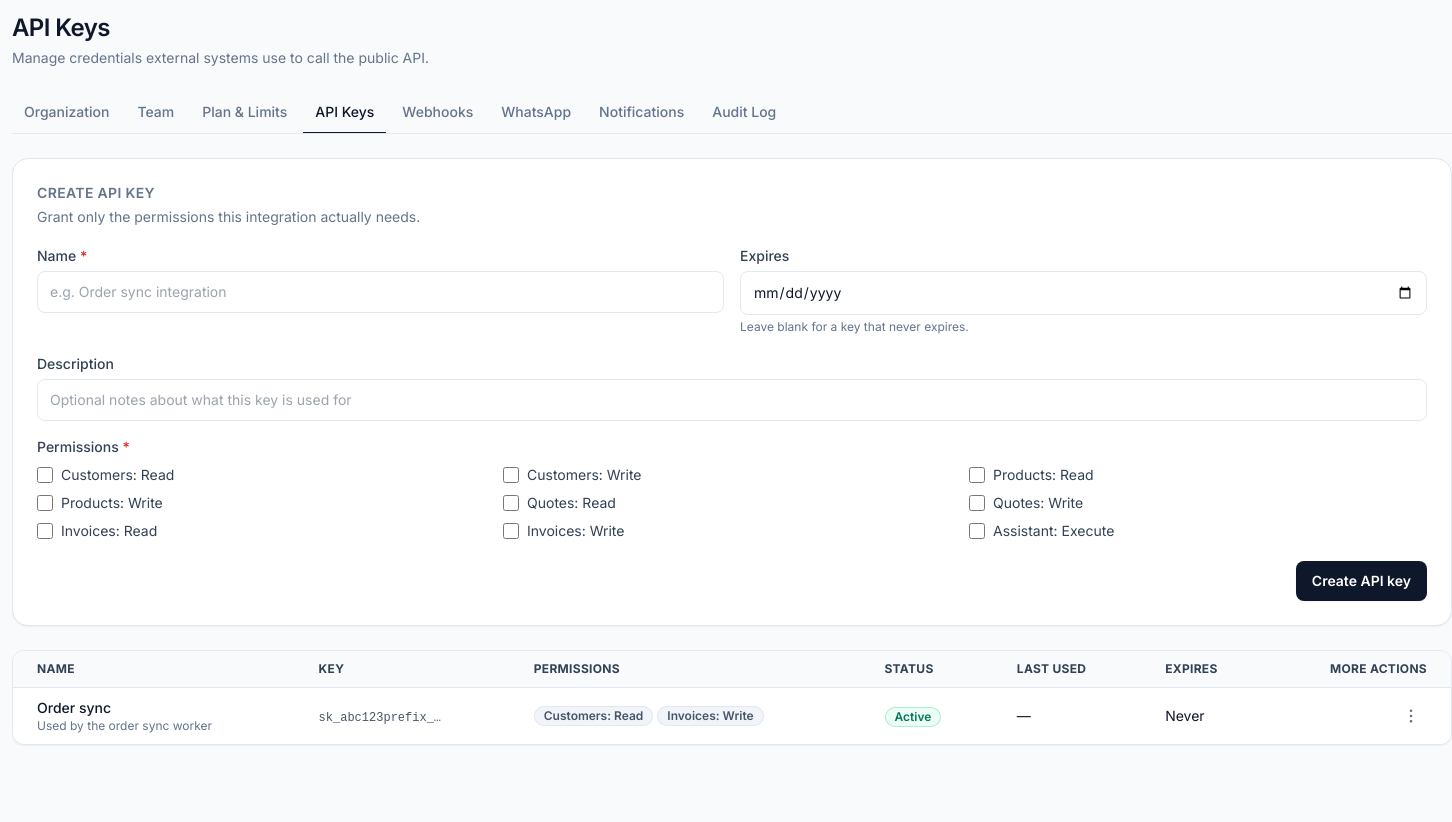
Test case: ApiKeysPage › revokes a key after confirmation
Expected: the text "Order sync" is shown, [37, 699, 111, 716]
Step 1. Click the button named "More actions" → [1411, 716], box [1395, 700, 1427, 732]
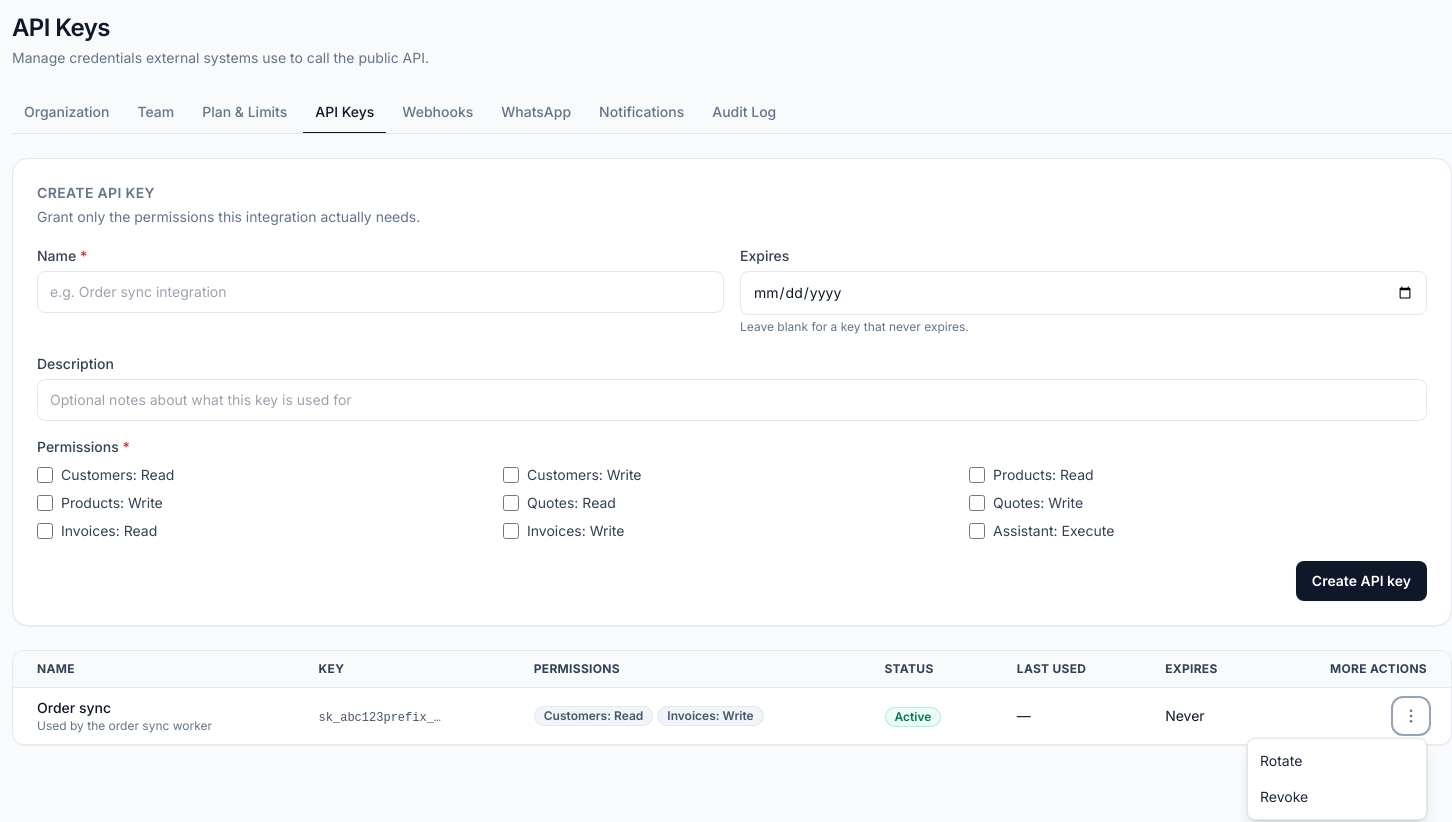
Step 2. Click the menu item "Revoke" → [1337, 797], box [1248, 779, 1426, 815]
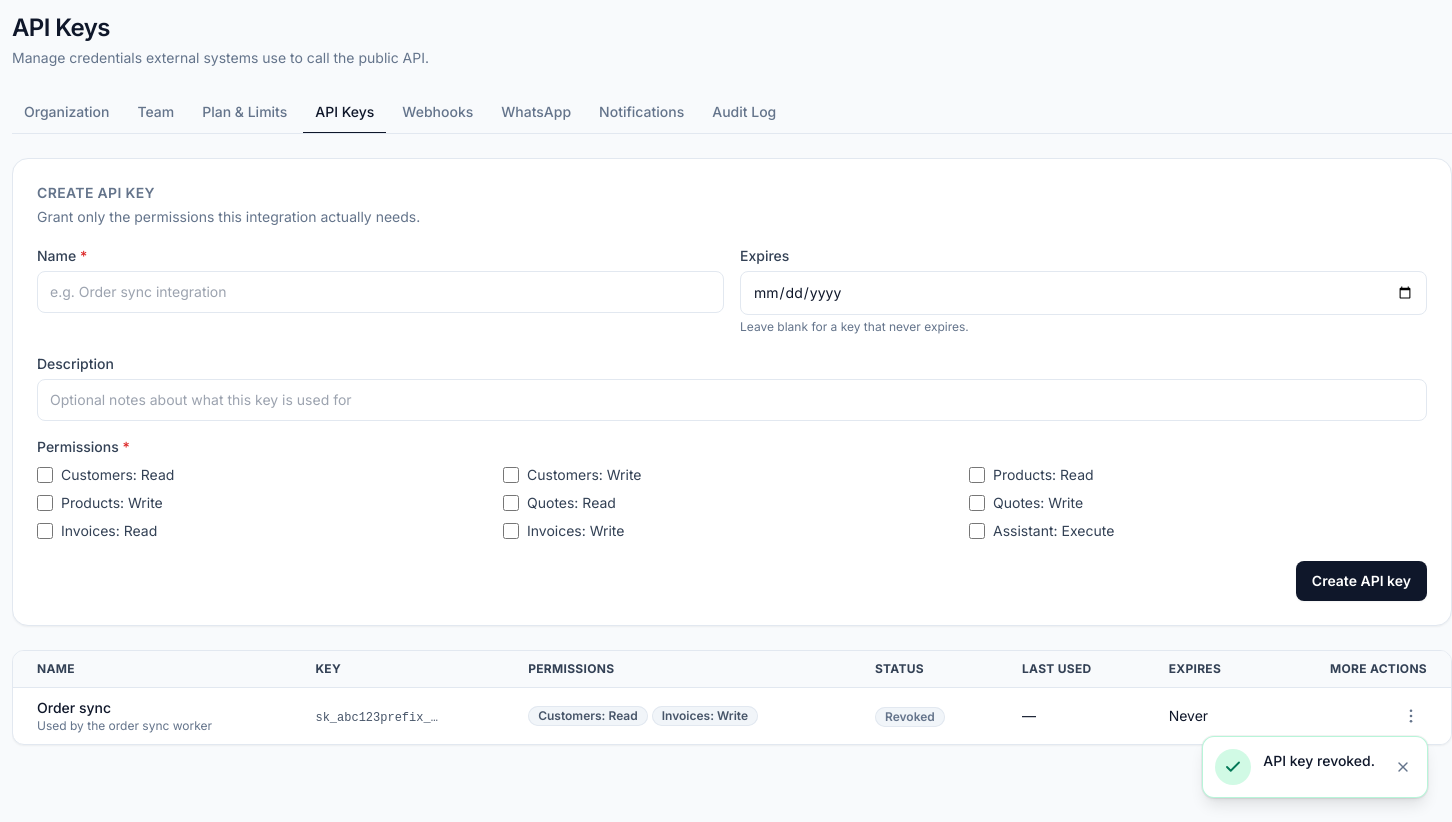
Expected: the text "Revoked" is shown, [875, 706, 945, 726]
